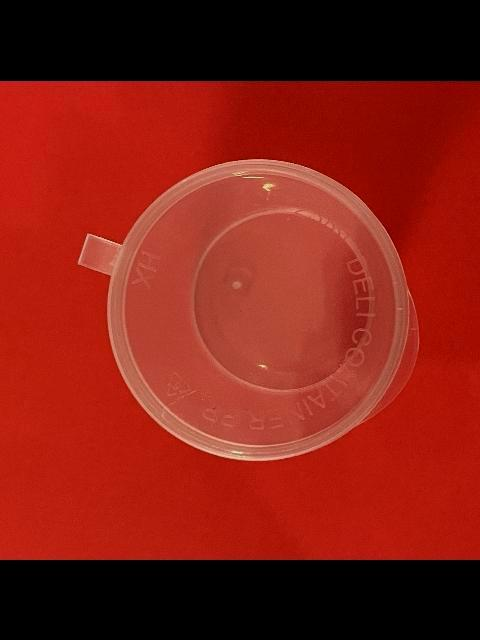plasticcontainer: (71, 156, 421, 462)
